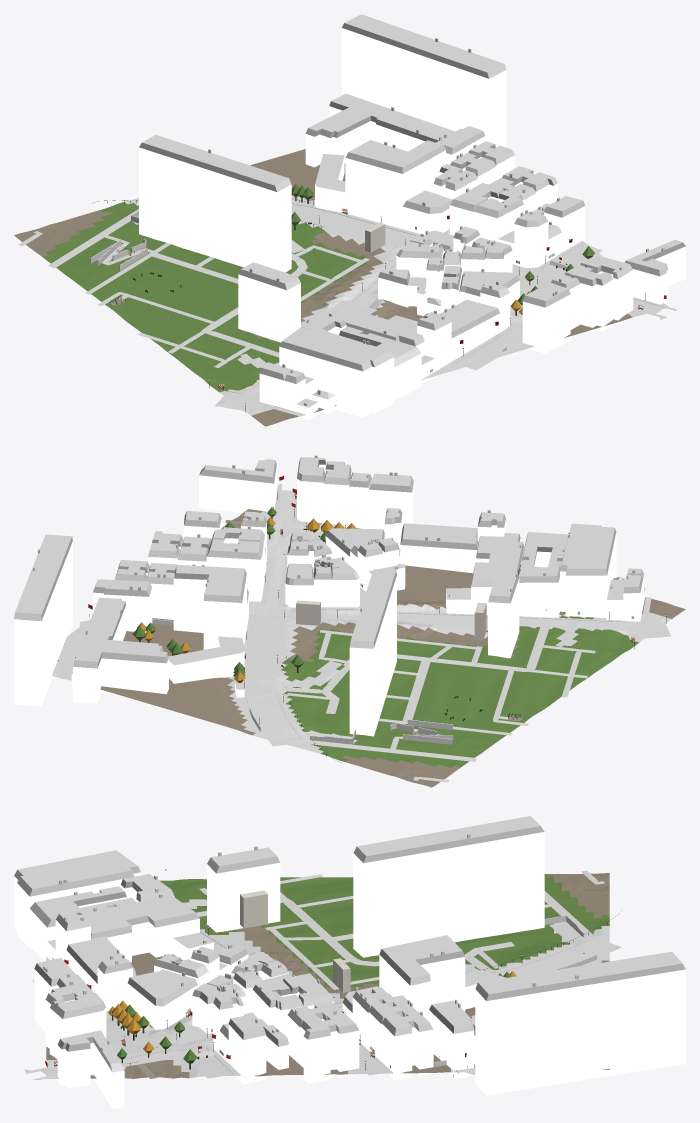
Rendered from zone_I3.glb.
3 renders of one model, top to bottom at view 1: azimuth 30°, elevation 25°; view 2: azimuth 150°, elevation 25°; view 3: azimuth 270°, elevation 25°, orthographic. The views are drawn at different scales.
Visible parts, largest first — view 1: zone_I3_batiments, zone_I3_terrain, zone_I3_sol_NOCOL, zone_I3_decor_NOCOL; view 2: zone_I3_batiments, zone_I3_terrain, zone_I3_sol_NOCOL, zone_I3_decor_NOCOL; view 3: zone_I3_batiments, zone_I3_terrain, zone_I3_sol_NOCOL, zone_I3_decor_NOCOL.
Boxes of the visible parts, left/top/right/bottom form: zone_I3_batiments: left=90, top=14, right=685, bottom=419; zone_I3_terrain: left=14, top=149, right=668, bottom=426; zone_I3_sol_NOCOL: left=18, top=201, right=676, bottom=416; zone_I3_decor_NOCOL: left=92, top=184, right=645, bottom=412; zone_I3_batiments: left=14, top=455, right=645, bottom=744; zone_I3_terrain: left=52, top=488, right=685, bottom=787; zone_I3_sol_NOCOL: left=61, top=484, right=670, bottom=782; zone_I3_decor_NOCOL: left=89, top=491, right=666, bottom=761; zone_I3_batiments: left=14, top=816, right=685, bottom=1108; zone_I3_terrain: left=46, top=873, right=609, bottom=1078; zone_I3_sol_NOCOL: left=24, top=870, right=621, bottom=1079; zone_I3_decor_NOCOL: left=108, top=869, right=619, bottom=1077.
Size of the model in its own units: 229 by 55.15 by 254.
